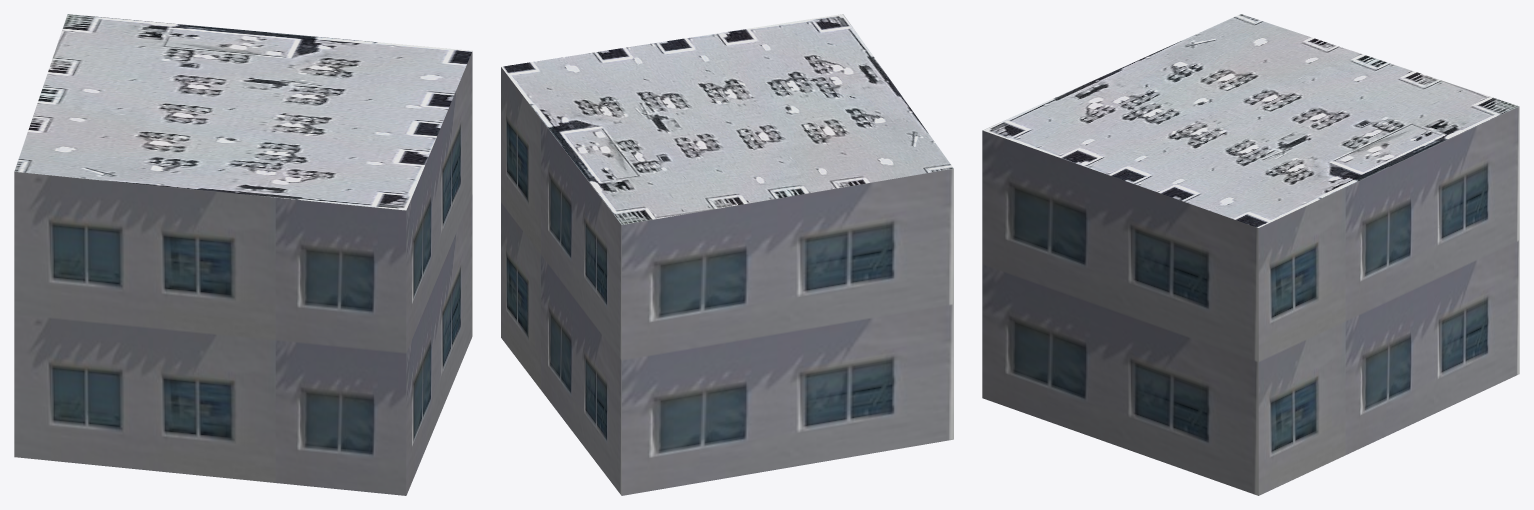
The model's file is ResTex__3022.fbx.
3 renders of one model, left to right at view 1: azimuth 30°, elevation 25°; view 2: azimuth 150°, elevation 25°; view 3: azimuth 270°, elevation 25°, orthographic. The views are drawn at different scales.
Visible parts, largest first — view 1: CityEngineMaterial_10_m, CityEngineMaterial_4_m; view 2: CityEngineMaterial_10_m, CityEngineMaterial_4_m; view 3: CityEngineMaterial_10_m, CityEngineMaterial_4_m.
Boxes of the visible parts, x1,y1,x2,y2 form: CityEngineMaterial_10_m: (14, 51, 472, 495); CityEngineMaterial_4_m: (14, 14, 472, 210); CityEngineMaterial_10_m: (501, 67, 953, 495); CityEngineMaterial_4_m: (501, 14, 953, 224); CityEngineMaterial_10_m: (982, 106, 1519, 495); CityEngineMaterial_4_m: (983, 14, 1518, 227).
Bounding box in the file's own units: 10.29 × 6 × 10.9.
2 materials, 2 textured.
